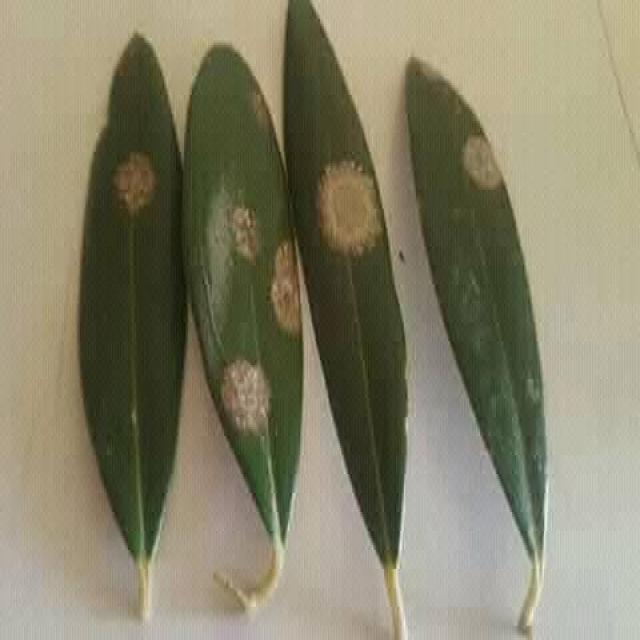OlivePeacockSpot: (406, 64, 546, 628), (284, 0, 407, 638), (78, 36, 186, 616), (184, 45, 299, 550)
